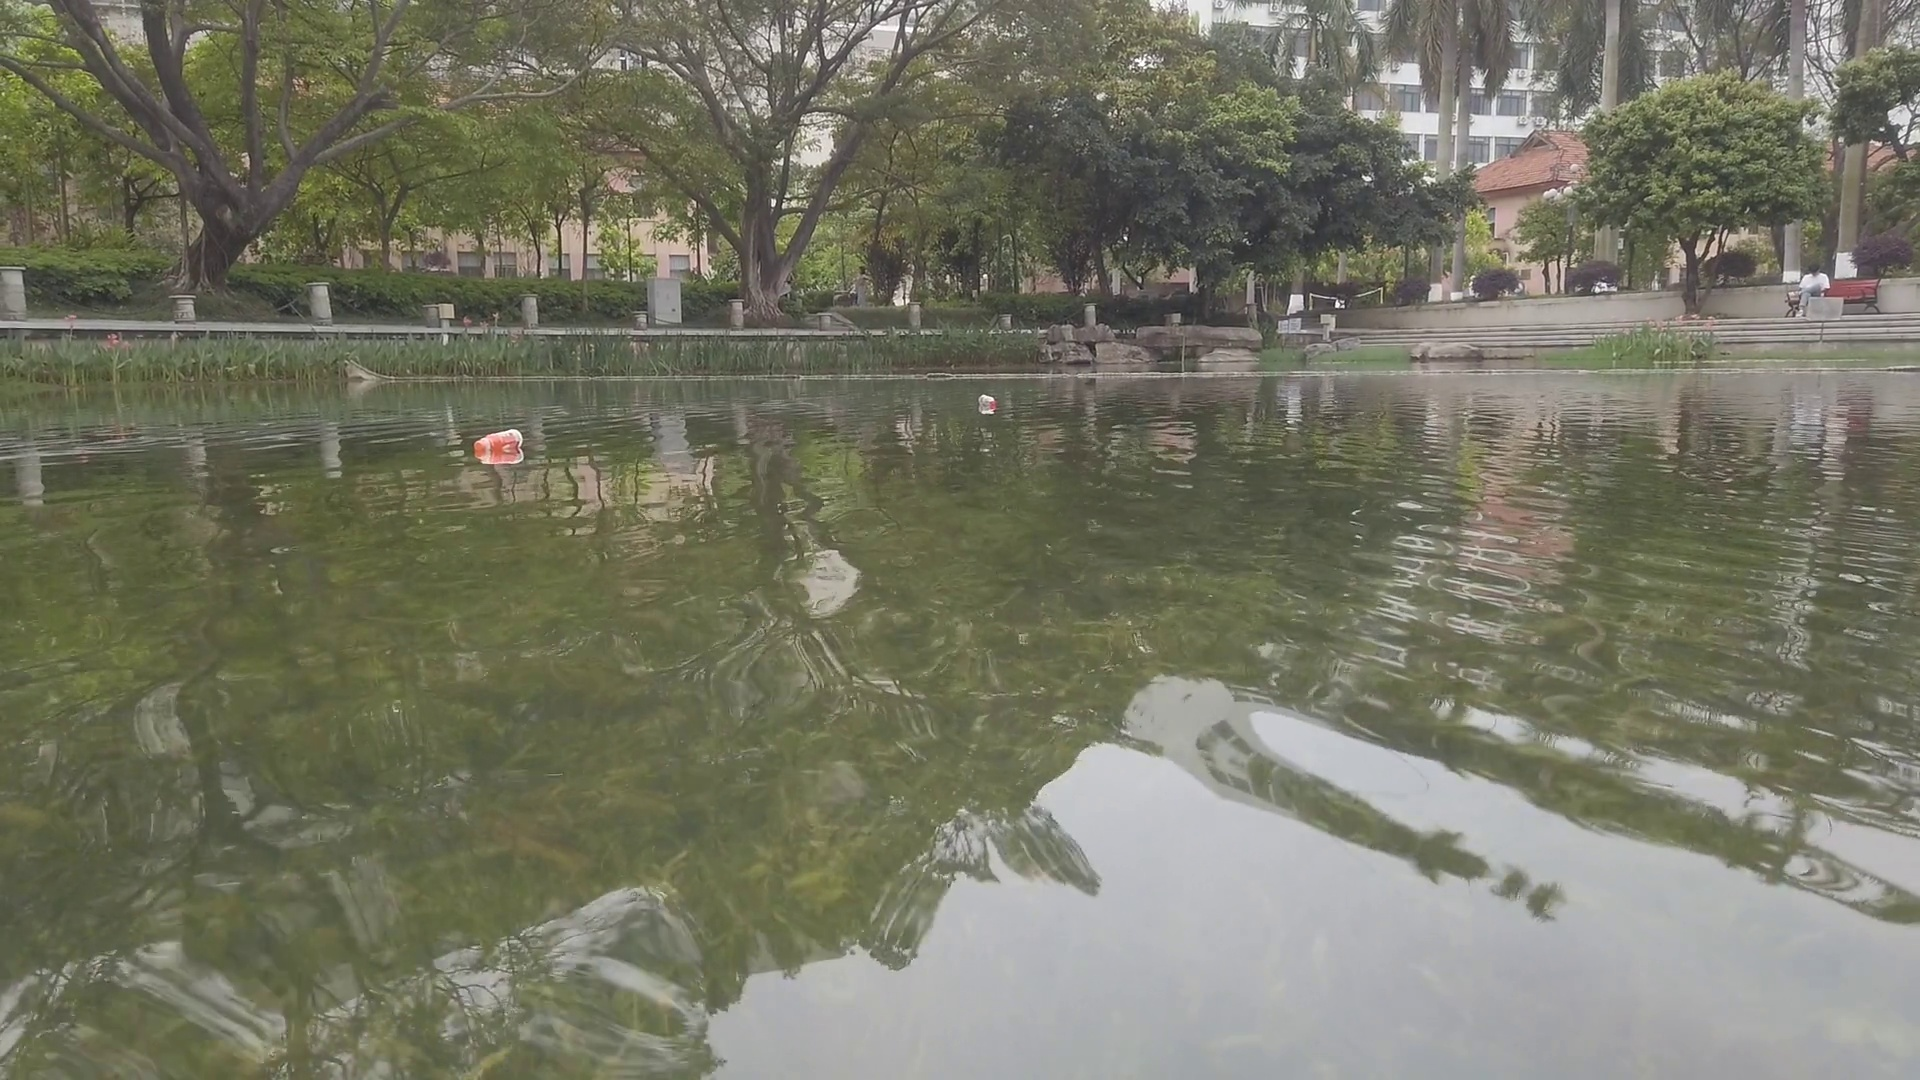bottle: (475, 430, 525, 455), (977, 396, 1000, 411)
